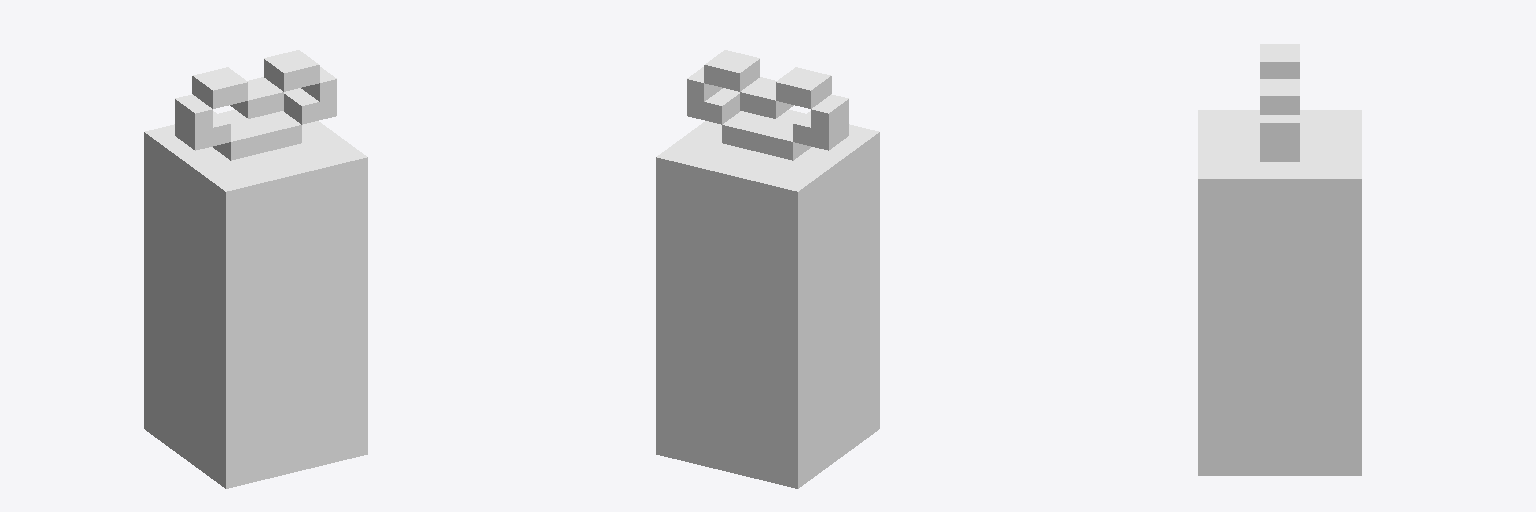
File: red_present_long.obj
3 views of the same model, side by side, from view 1: azimuth 30°, elevation 25°; view 2: azimuth 150°, elevation 25°; view 3: azimuth 270°, elevation 25° (orthographic).
Visible parts, largest first — view 1: object 1; view 2: object 1; view 3: object 1.
Part boxes in pixels (bbox=[...]): object 1: bbox=[144, 50, 367, 488]; object 1: bbox=[656, 50, 879, 488]; object 1: bbox=[1198, 44, 1361, 475].
Bounding box in the file's own units: 0.8 × 2 × 0.8.